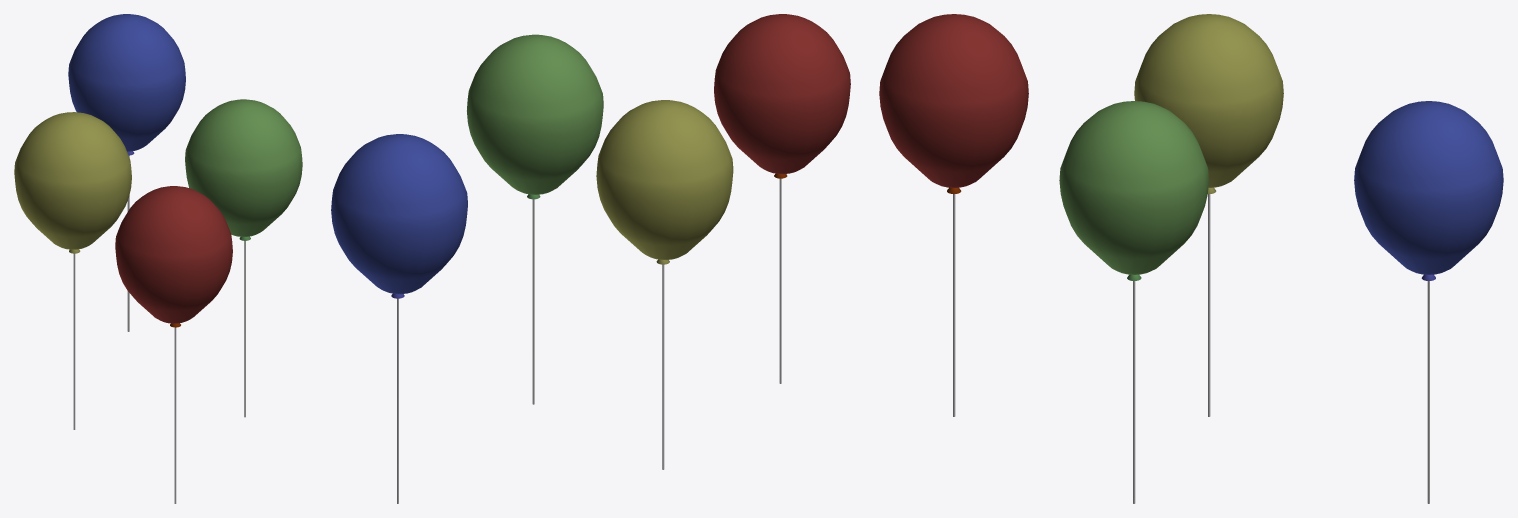
File: balloons.fbx
3 views of the same model, side by side, from view 1: azimuth 30°, elevation 25°; view 2: azimuth 150°, elevation 25°; view 3: azimuth 270°, elevation 25° (orthographic). The views are drawn at different scales.
Visible parts, largest first — view 1: yellowballoon, redballoon, greenballoon, blueballoon; view 2: greenballoon, yellowballoon, redballoon, blueballoon; view 3: redballoon, blueballoon, greenballoon, yellowballoon.
Boxes of the visible parts, x1,y1,x2,y2 form: yellowballoon: (14,112,131,429); redballoon: (115,186,232,503); greenballoon: (185,99,302,417); blueballoon: (68,14,185,331); greenballoon: (467,34,603,404); yellowballoon: (596,100,733,469); redballoon: (714,14,850,383); blueballoon: (331,134,467,503); redballoon: (879,14,1028,416); blueballoon: (1354,101,1503,503); greenballoon: (1059,101,1208,503); yellowballoon: (1134,14,1283,416).
Size of the model in its own units: 3.46 by 4.25 by 6.07.
